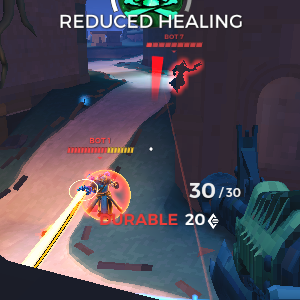model: (88, 166, 126, 222), (170, 53, 202, 92)
